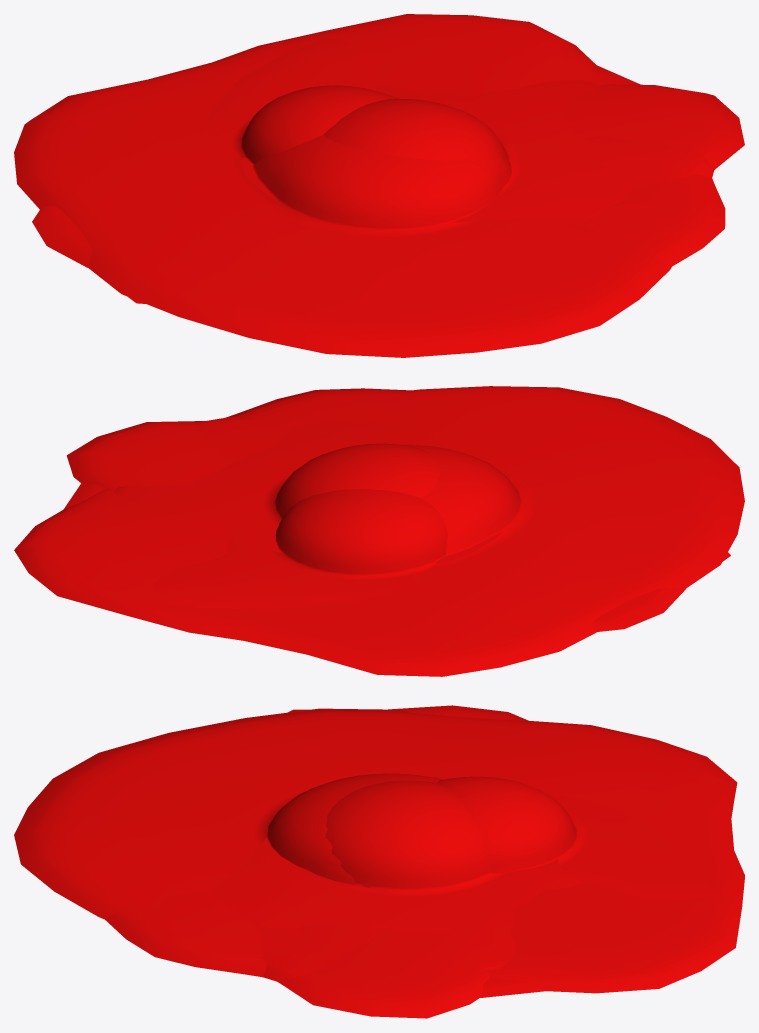
The model's file is fried_eggs_grp.fbx.
3 views of the same model, one above another, from view 1: azimuth 30°, elevation 25°; view 2: azimuth 150°, elevation 25°; view 3: azimuth 270°, elevation 25° (orthographic). The views are drawn at different scales.
Parts seen in each view (by area): view 1: fried_egg_15, fried_egg_18, fried_egg_19, fried_egg_10, fried_egg_20, fried_egg_25, fried_egg_17; view 2: fried_egg_15, fried_egg_19, fried_egg_18, fried_egg_10, fried_egg_20, fried_egg_25, fried_egg_17; view 3: fried_egg_15, fried_egg_18, fried_egg_19, fried_egg_10, fried_egg_20, fried_egg_25, fried_egg_17.
Boxes of the visible parts, <box> form: fried_egg_15: <box>14,14,712,357</box>; fried_egg_18: <box>241,80,628,223</box>; fried_egg_19: <box>206,38,398,164</box>; fried_egg_10: <box>552,84,744,170</box>; fried_egg_20: <box>501,159,725,266</box>; fried_egg_25: <box>505,136,713,190</box>; fried_egg_17: <box>32,65,640,267</box>; fried_egg_15: <box>14,386,744,676</box>; fried_egg_19: <box>153,489,447,610</box>; fried_egg_18: <box>114,422,503,563</box>; fried_egg_10: <box>66,421,236,488</box>; fried_egg_20: <box>227,388,413,424</box>; fried_egg_25: <box>195,417,308,460</box>; fried_egg_17: <box>63,483,686,631</box>; fried_egg_15: <box>14,708,744,993</box>; fried_egg_18: <box>212,780,582,970</box>; fried_egg_19: <box>437,776,714,901</box>; fried_egg_10: <box>277,929,489,1018</box>; fried_egg_20: <box>105,864,355,976</box>; fried_egg_25: <box>255,880,376,981</box>; fried_egg_17: <box>388,705,545,997</box>.
Size of the model in its own units: 17.78 by 1.72 by 17.54.
